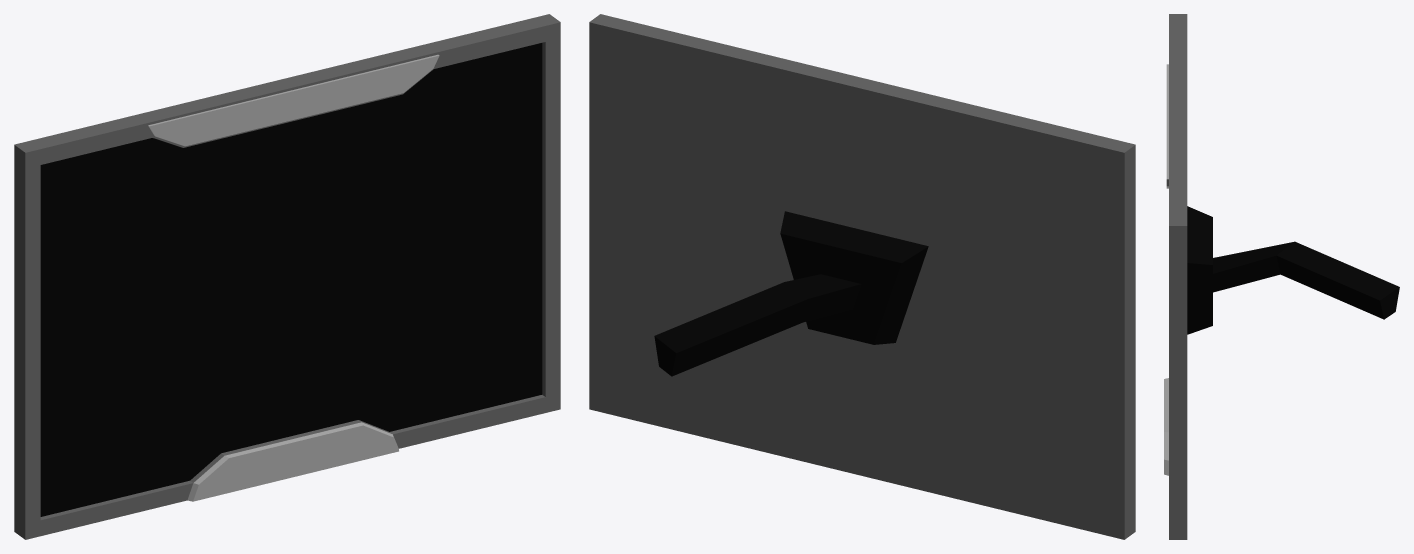
File: small_monitor_left.fbx
3 renders of one model, left to right at view 1: azimuth 30°, elevation 25°; view 2: azimuth 150°, elevation 25°; view 3: azimuth 270°, elevation 25°, orthographic. The views are drawn at different scales.
Visible parts, largest first — view 1: Cube.001; view 2: Cube.001; view 3: Cube.001.
Boxes of the visible parts, x1,y1,x2,y2 form: Cube.001: (14, 14, 560, 539); Cube.001: (589, 14, 1135, 539); Cube.001: (1164, 14, 1399, 539).
Size of the model in its own units: 183 by 126 by 86.08.
